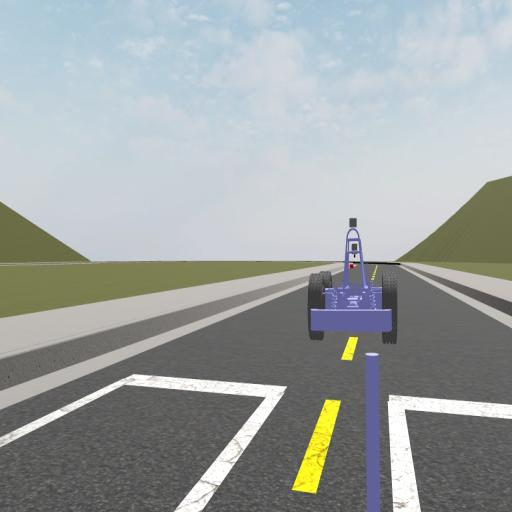ERP-42: (309, 216, 396, 343)
